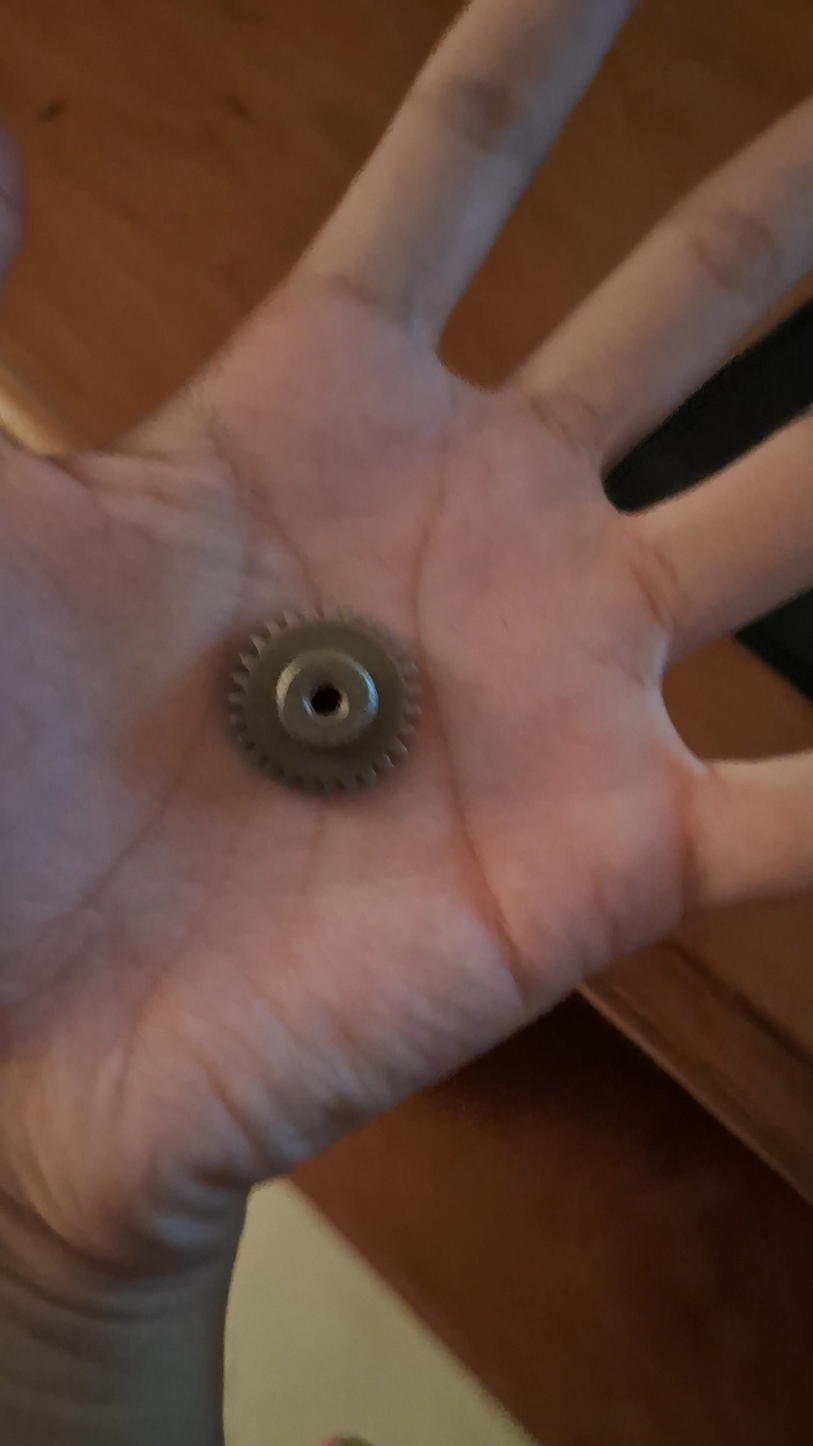spur gear: (229, 609, 419, 793)
